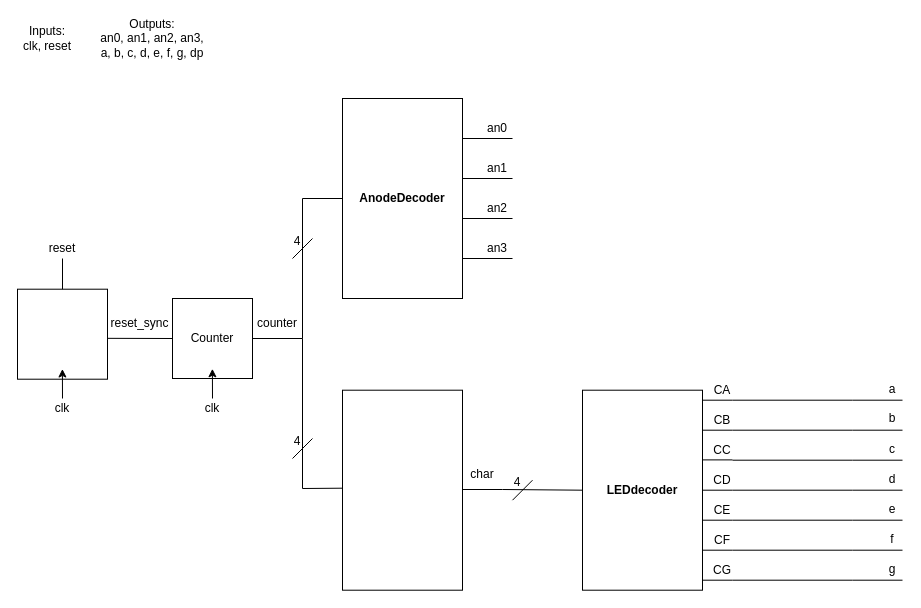
Image size: 921x608. Some labels were removed from this diagram. Here are the shapes that lost their labels. From the top down, the centre of each, then its label:
At pixel 62 333: "ResetDebouncer".
At pixel 402 489: "CharacterDecoder".
